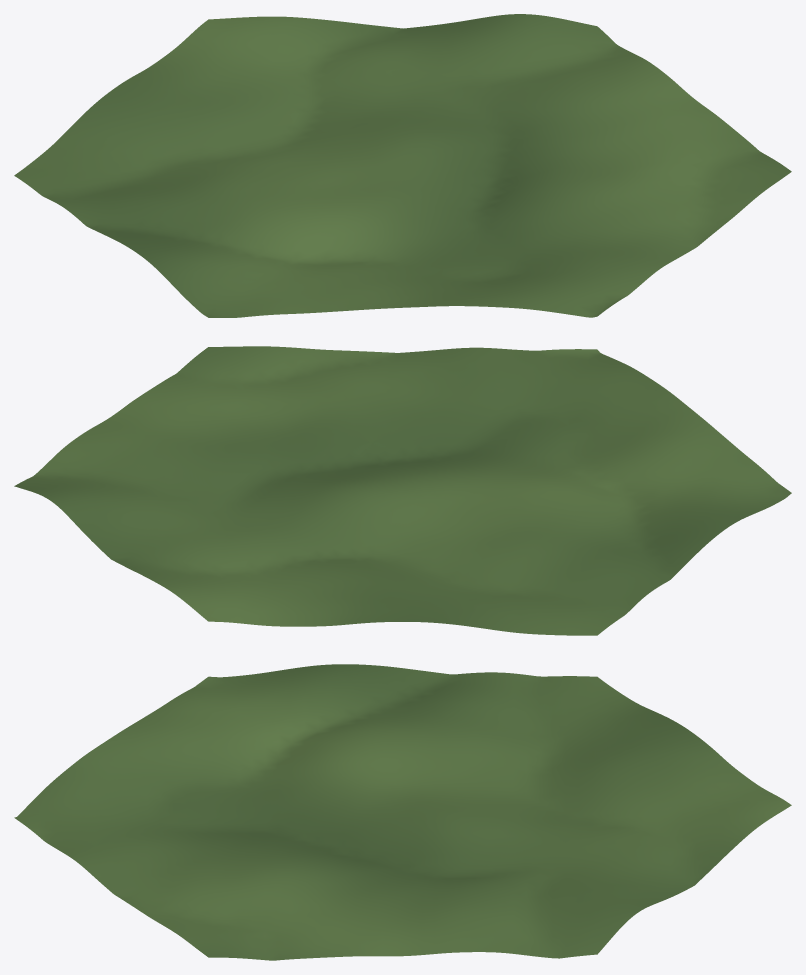
3 renders of one model, top to bottom at view 1: azimuth 30°, elevation 25°; view 2: azimuth 150°, elevation 25°; view 3: azimuth 270°, elevation 25°, orthographic.
Visible parts, largest first — view 1: JS_-3_13; view 2: JS_-3_13; view 3: JS_-3_13.
Part boxes in pixels (x1=…): JS_-3_13: x1=14, y1=14, x2=791, y2=317; JS_-3_13: x1=14, y1=346, x2=791, y2=635; JS_-3_13: x1=14, y1=664, x2=791, y2=960.
Size of the model in its own units: 4330 by 191 by 5000.
